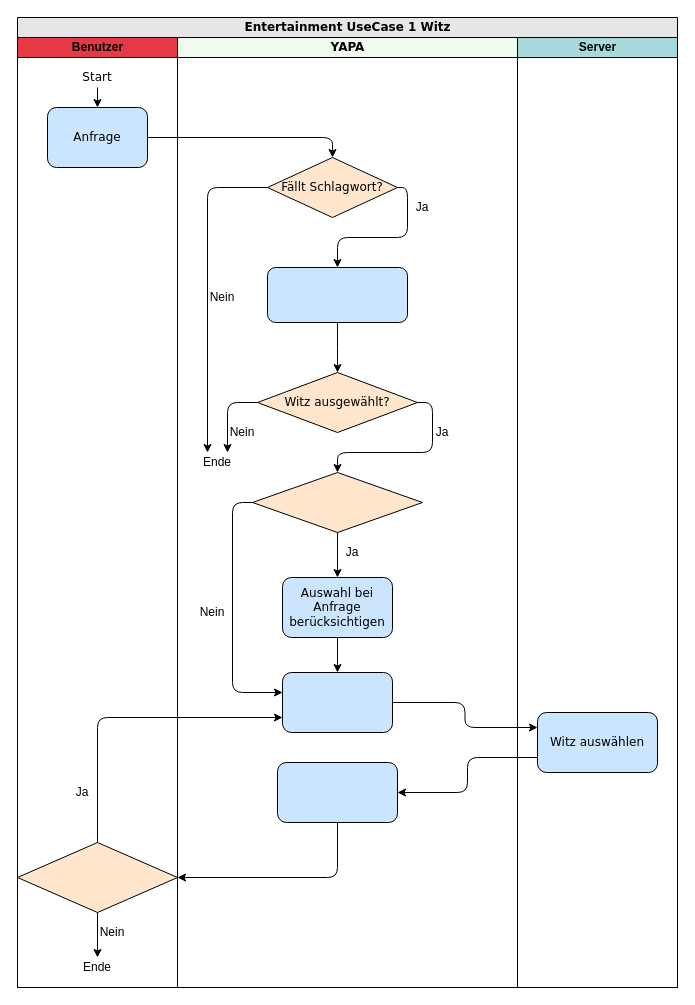
Some shapes in this 695 by 1005 pixel diagram are drawn without their labels. The shapes that lost their labels are listed below. From the top down, each one's centre as x and y in pixels, then its label:
At pixel 337 294: "Zufällige Auswahl aus Witz, Quiz, Aktivität oder Vorhersage".
At pixel 337 502: "Witzkategorien in Einstellungen?".
At pixel 337 702: "Witz abfragen (Anfrage an Server)".
At pixel 337 792: "Witz ausgeben".
At pixel 97 877: "Weiterer Witz erwünscht?".
